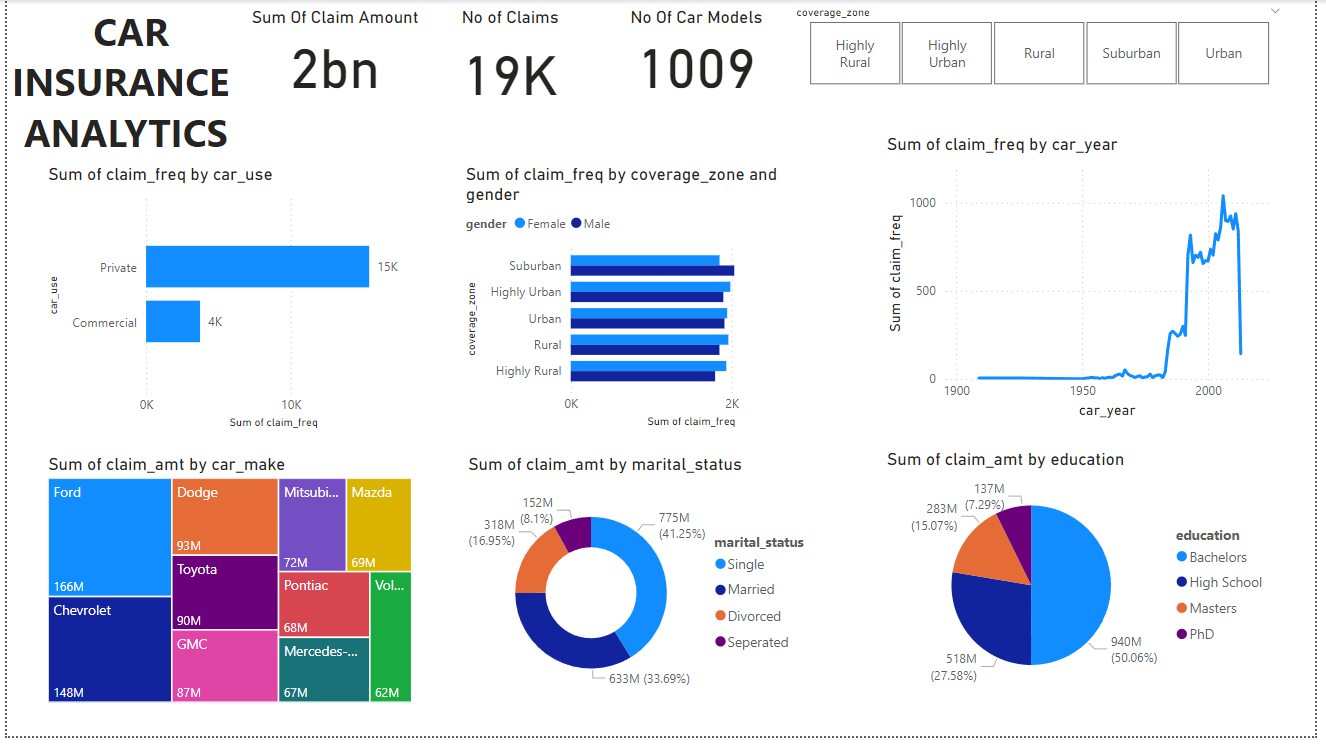

What the dashboard file says about the page in this screenshot:
{"tool":"powerbi","page":{"name":"Page 1","canvas":[1280,720],"ordinal":0},"visuals":[{"type":"pieChart","fields":{"Y":["Sum(Insurance Policies.claim_amt)"],"Category":["Insurance Policies.education"]},"box":[856,439,386.4,248.2],"z":0},{"type":"treemap","fields":{"Group":["Insurance Policies.car_make"],"Values":["Sum(Insurance Policies.claim_amt)"]},"box":[35.5,443.9,365.6,248.2],"z":1000},{"type":"lineChart","fields":{"Y":["Sum(Insurance Policies.claim_freq)"],"Category":["Insurance Policies.car_year"]},"box":[856,130.8,386.4,283.7],"z":2000},{"type":"clusteredBarChart","fields":{"Category":["Insurance Policies.car_use"],"Y":["Sum(Insurance Policies.claim_freq)"]},"box":[35.5,160.2,365.6,264.1],"z":3000},{"type":"clusteredBarChart","fields":{"Y":["Sum(Insurance Policies.claim_freq)"],"Series":["Insurance Policies.gender"],"Category":["Insurance Policies.coverage_zone"]},"box":[443.9,160.2,355.8,262.9],"z":4000},{"type":"donutChart","fields":{"Y":["Sum(Insurance Policies.claim_amt)"],"Category":["Insurance Policies.marital_status"]},"box":[446.3,443.9,353.4,253.1],"z":5000},{"type":"card","title":"Sum Of Claim Amount","fields":{"Values":["Sum(Insurance Policies.claim_amt)"]},"box":[232.3,6.1,177.3,89.3],"z":6000},{"type":"card","title":"No of Claims ","fields":{"Values":["Sum(Insurance Policies.claim_freq)"]},"box":[409.6,6.1,165.1,102.7],"z":7000},{"type":"slicer","fields":{"Values":["Insurance Policies.coverage_zone"]},"box":[759.4,0,498.9,89.3],"z":8000},{"type":"textbox","box":[0,0,232.3,160.2],"z":9000},{"type":"card","title":"No  Of Car Models","fields":{"Values":["Count(Insurance Policies.car_model)"]},"box":[591.9,6.1,165.1,89.3],"z":10000}]}

Visuals, with their boxes in screenshot pixels (x1, y1, x2, y2), scaled from the page's 1280x720 canvas onto the 1326x744 screenshot:
pieChart - Sum(Insurance Policies.claim_amt) x Insurance Policies.education: {"left": 887, "top": 454, "right": 1287, "bottom": 710}
treemap - Insurance Policies.car_make x Sum(Insurance Policies.claim_amt): {"left": 37, "top": 459, "right": 416, "bottom": 715}
lineChart - Sum(Insurance Policies.claim_freq) x Insurance Policies.car_year: {"left": 887, "top": 135, "right": 1287, "bottom": 428}
clusteredBarChart - Insurance Policies.car_use x Sum(Insurance Policies.claim_freq): {"left": 37, "top": 166, "right": 416, "bottom": 438}
clusteredBarChart - Sum(Insurance Policies.claim_freq) x Insurance Policies.gender: {"left": 460, "top": 166, "right": 828, "bottom": 437}
donutChart - Sum(Insurance Policies.claim_amt) x Insurance Policies.marital_status: {"left": 462, "top": 459, "right": 828, "bottom": 720}
"Sum Of Claim Amount" card: {"left": 241, "top": 6, "right": 424, "bottom": 99}
"No of Claims " card: {"left": 424, "top": 6, "right": 595, "bottom": 112}
slicer - Insurance Policies.coverage_zone: {"left": 787, "top": 0, "right": 1304, "bottom": 92}
textbox: {"left": 0, "top": 0, "right": 241, "bottom": 166}
"No  Of Car Models" card: {"left": 613, "top": 6, "right": 784, "bottom": 99}
